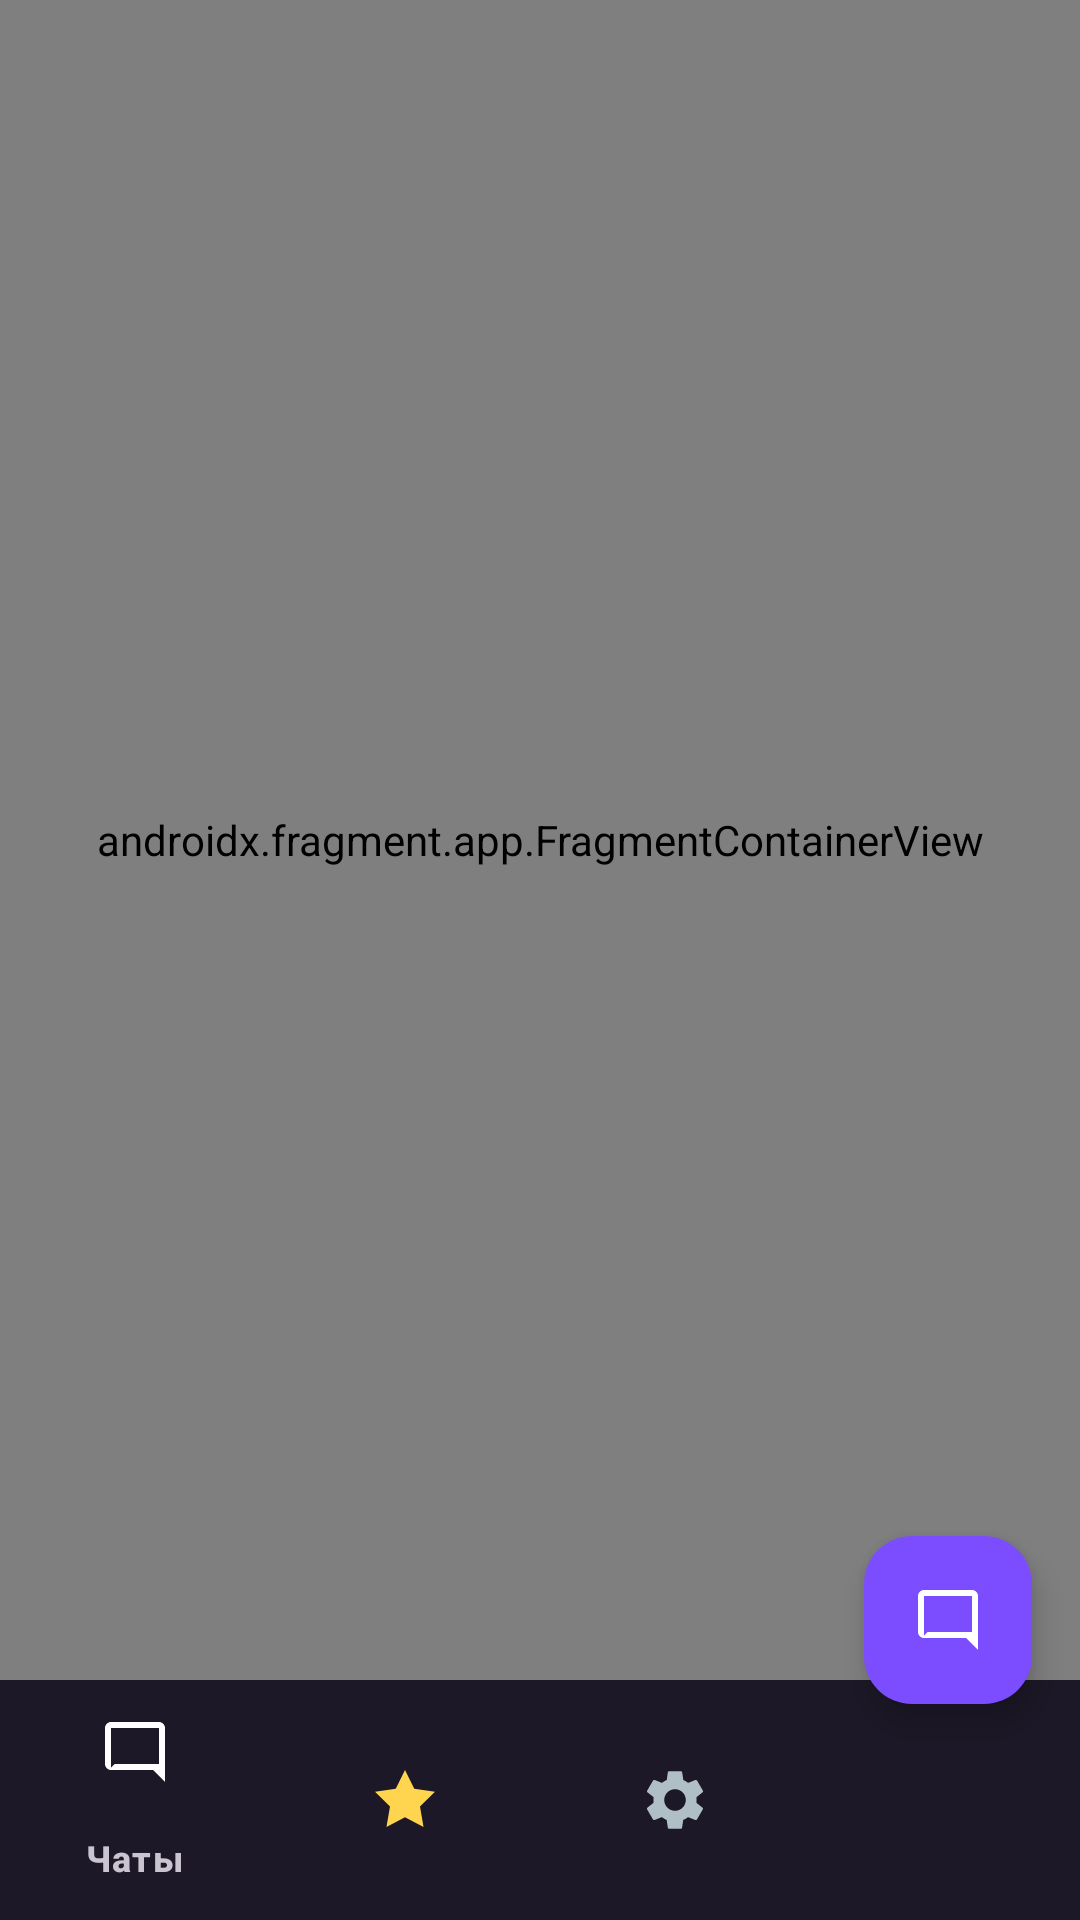

Screen size 1080*1920. Icon name, then its center in pixels as (x,y):
New Session: (948,1620)
